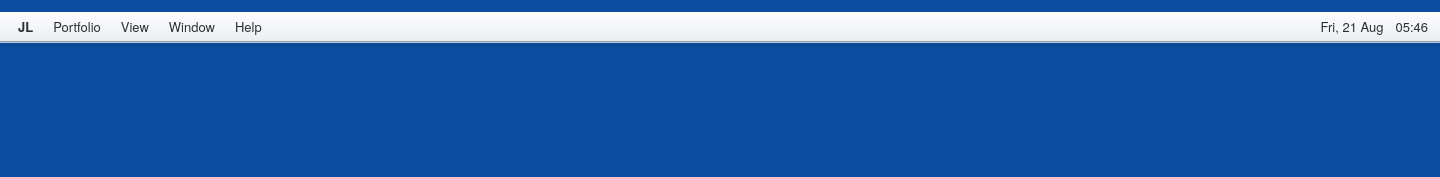
MenuBar › lists open windows, and says so when there are none
The image size is (1440, 177).
Click the button "Window" at [192, 26], box [159, 12, 225, 41]
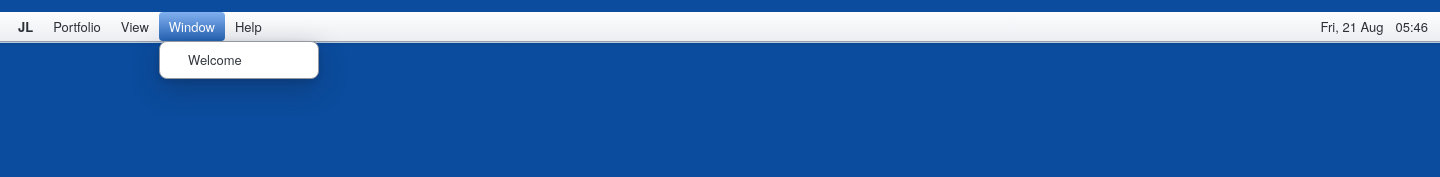
Check: the menu item "Welcome" is shown, box [188, 50, 242, 69]
Press Escape
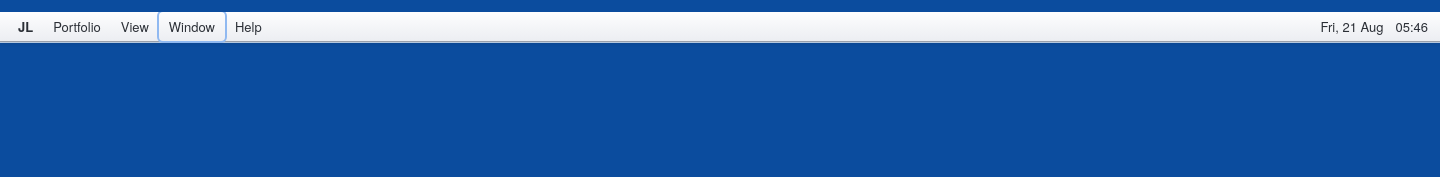
Click the button "View" at [135, 26], box [111, 12, 159, 41]
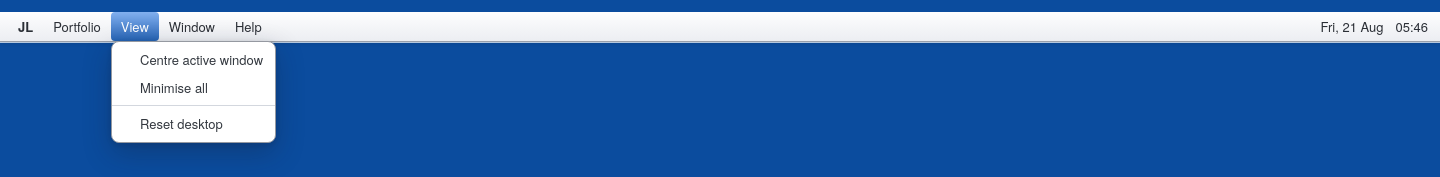
Click the menu item "Minimise all" at [174, 87], box [140, 78, 208, 96]
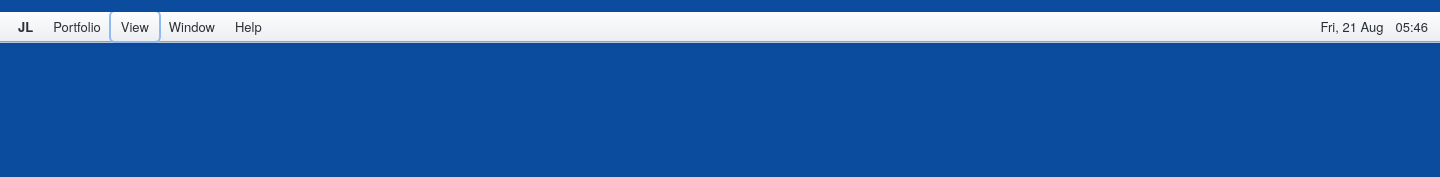
Click the button "Window" at [192, 26], box [159, 12, 225, 41]
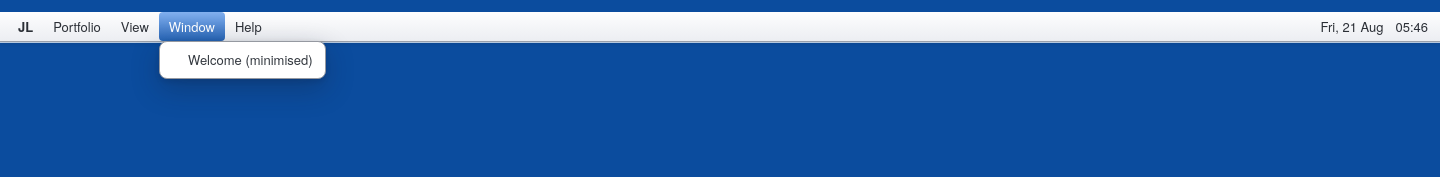
Check: the menu item "Welcome (minimised)" is shown, box [188, 50, 313, 69]
